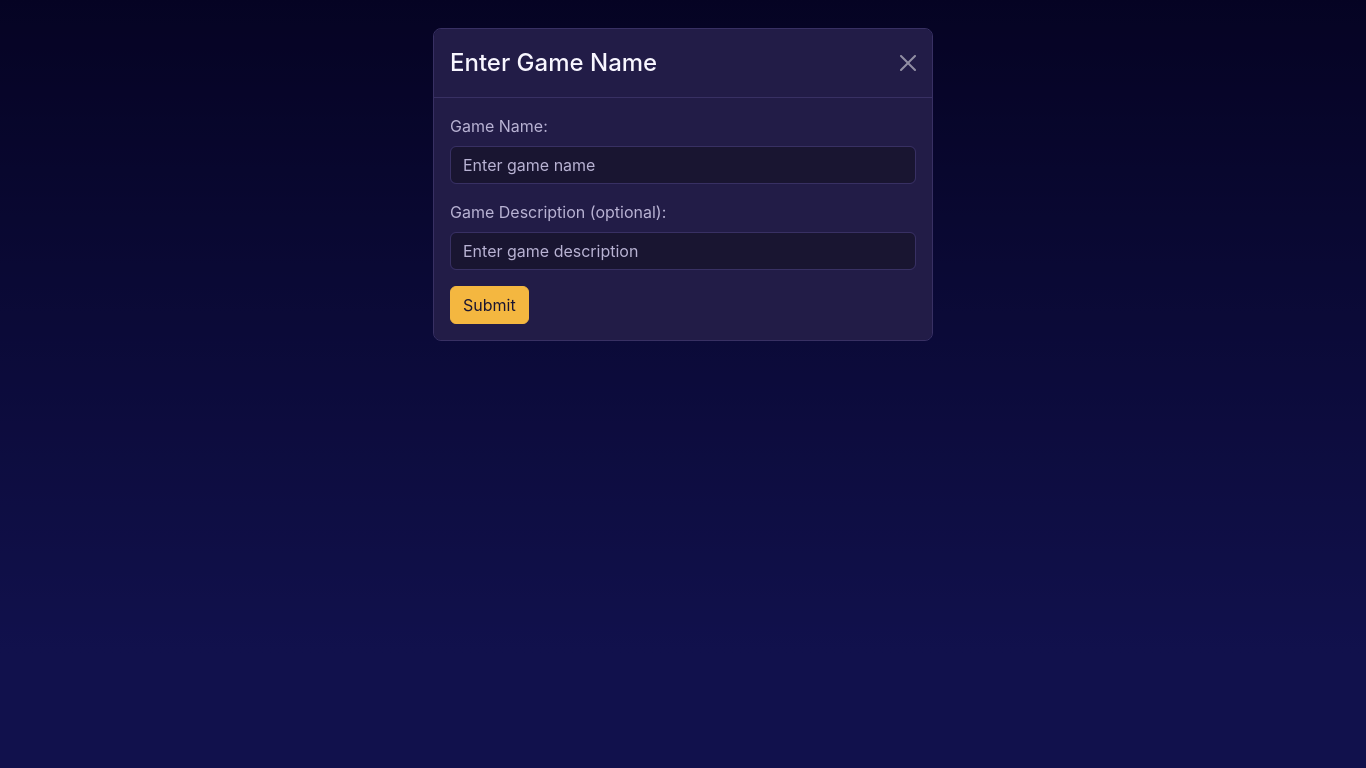
NewGameFormModal Tests › shows required error when submitting empty form
Click the button "Submit" at (489, 305), box [450,286,529,324]
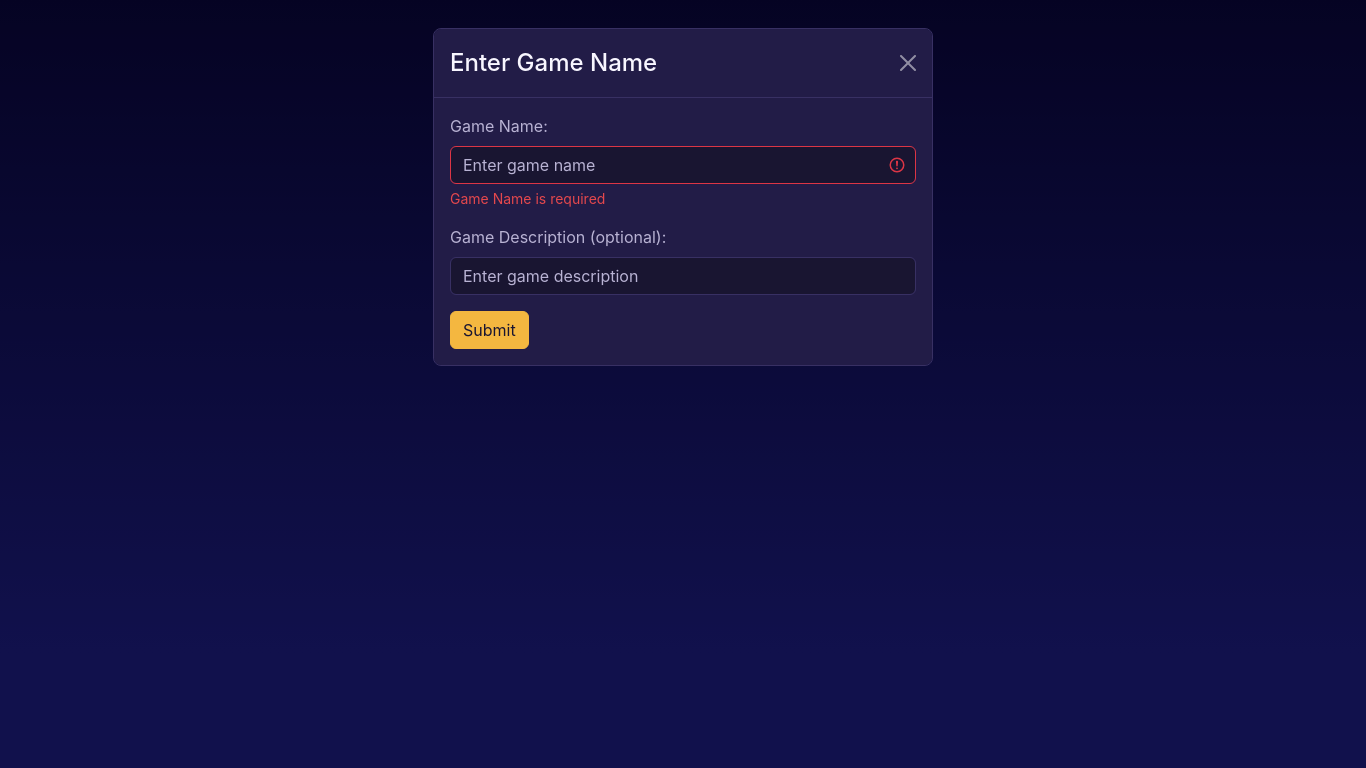
Check: the text "Game Name is required" is shown, box [450,190,605,207]
